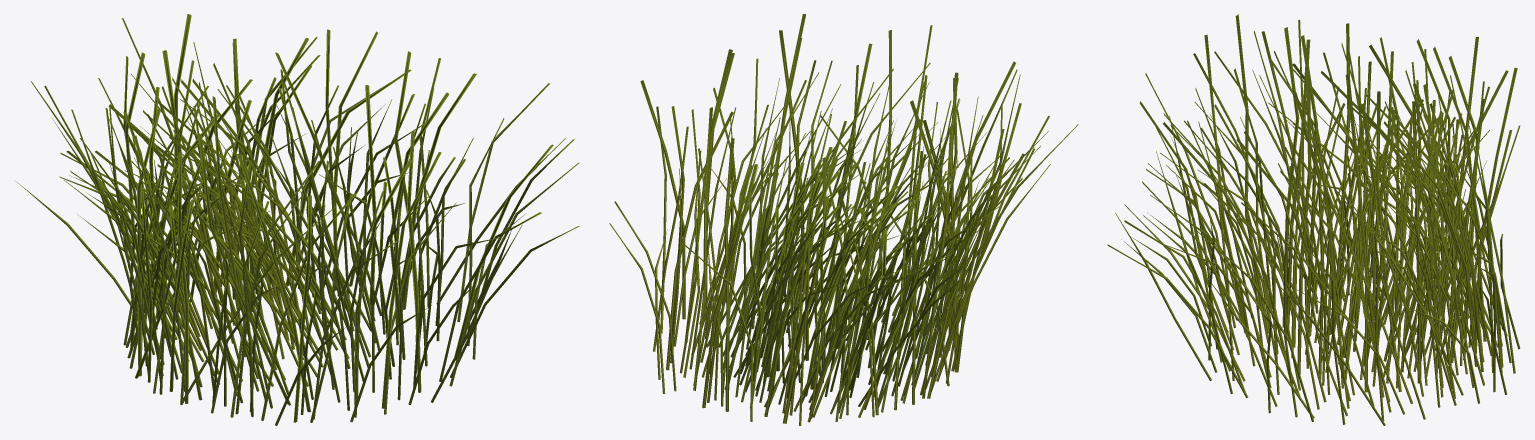
File: grass5.obj
3 views of the same model, side by side, from view 1: azimuth 30°, elevation 25°; view 2: azimuth 150°, elevation 25°; view 3: azimuth 270°, elevation 25° (orthographic). The views are drawn at different scales.
Parts seen in each view (by area): view 1: tree; view 2: tree; view 3: tree.
Boxes of the visible parts, box(x1,y1,x2,y2) form: tree: box(16, 14, 579, 425); tree: box(609, 14, 1078, 425); tree: box(1107, 14, 1520, 425).
Bounding box in the file's own units: 163 × 111 × 146.
Materials: 1 (1 with a texture image).
